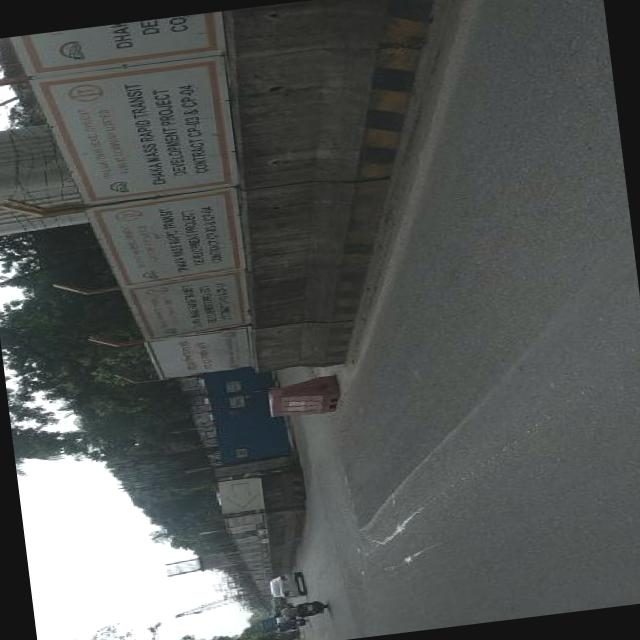car: (265, 570, 306, 600)
motorcycle: (296, 599, 330, 618), (272, 628, 303, 640), (288, 618, 308, 627)
